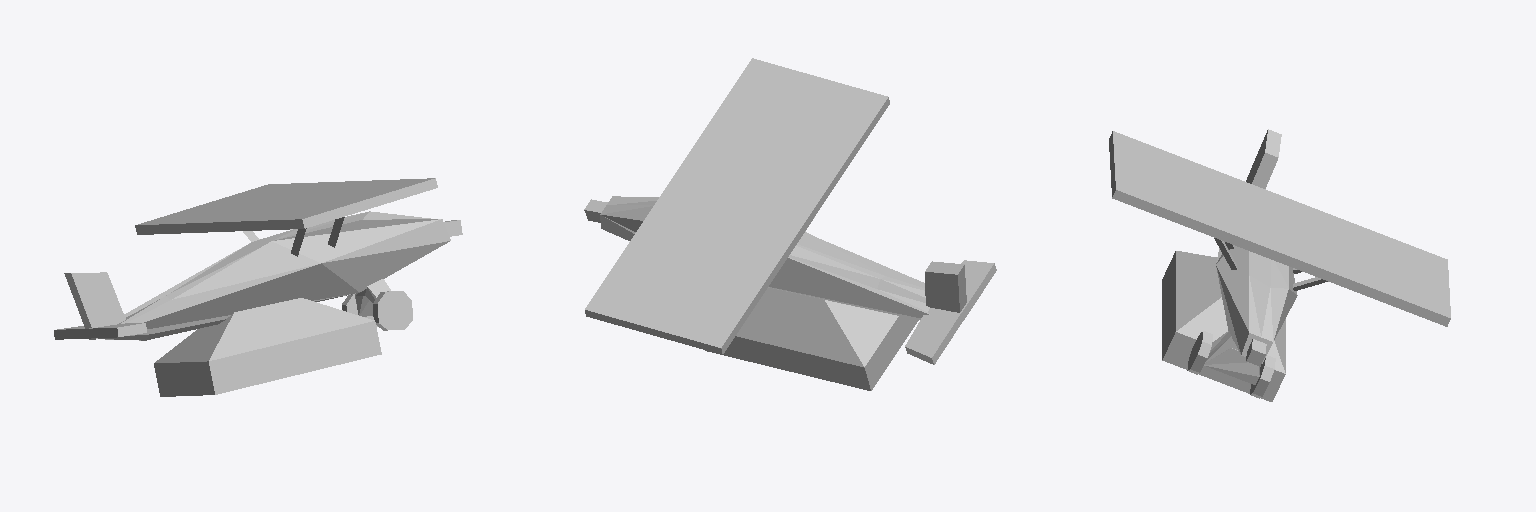
The model's file is LightPlane.obj.
The picture shows the model from 3 angles: view 1: azimuth 30°, elevation 25°; view 2: azimuth 150°, elevation 25°; view 3: azimuth 270°, elevation 25°; orthographic projection.
Parts seen in each view (by area): view 1: Cube.002; view 2: Cube.002; view 3: Cube.002.
Part boxes in pixels (bbox=[...]): Cube.002: bbox=[54, 178, 462, 396]; Cube.002: bbox=[584, 58, 996, 390]; Cube.002: bbox=[1109, 129, 1450, 401].
Bounding box in the file's own units: 0.3025 × 0.1727 × 0.235.